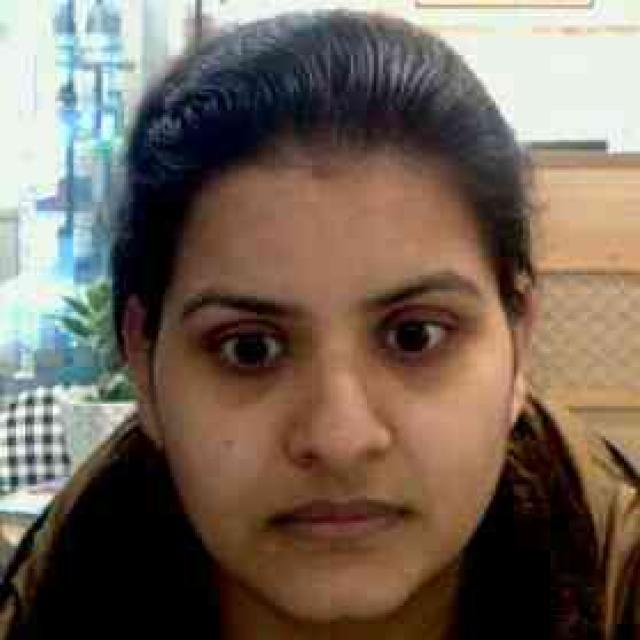puffy_eyes: (378, 351, 455, 394), (214, 365, 290, 408)
